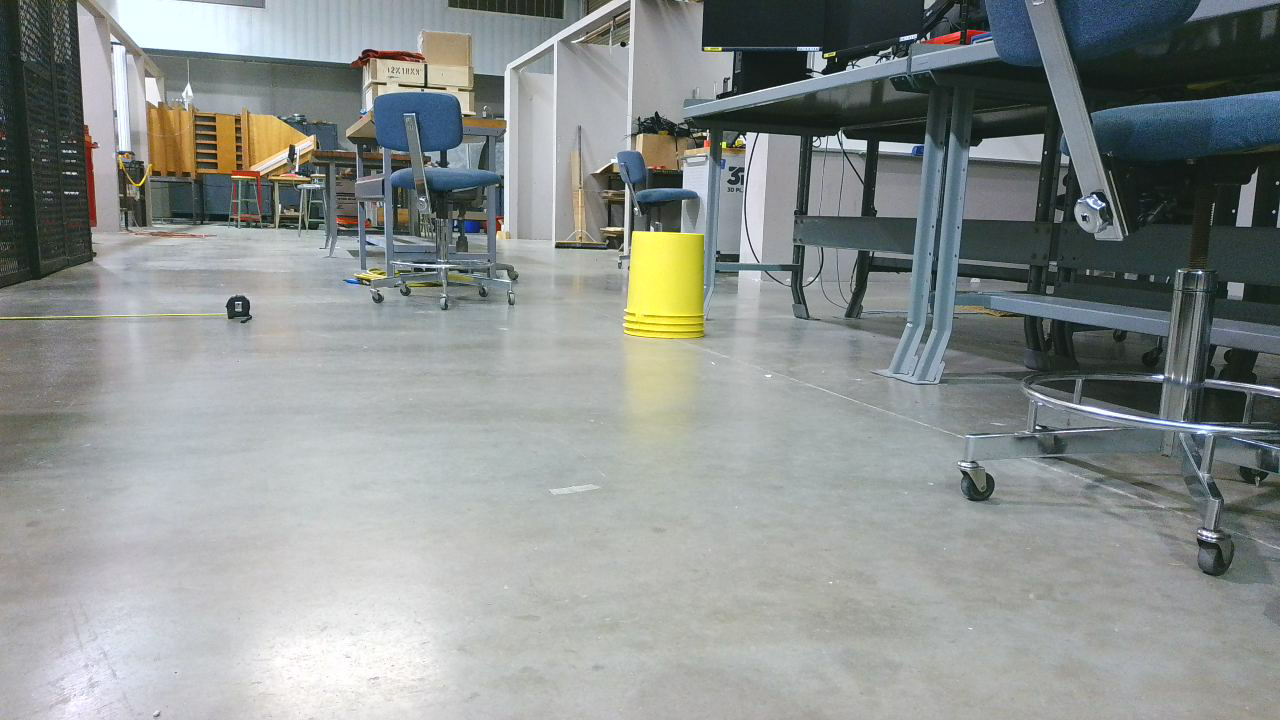yellow_bucket: (625, 235, 714, 343)
